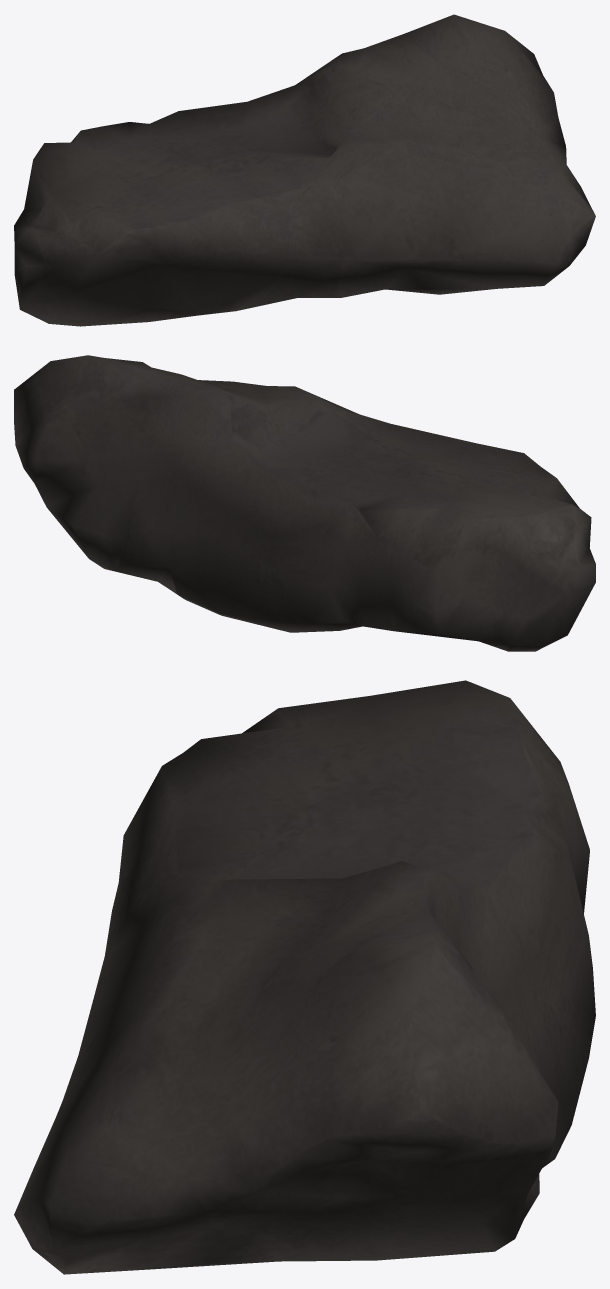
The model's file is falling_rock_a.glb.
3 renders of one model, top to bottom at view 1: azimuth 30°, elevation 25°; view 2: azimuth 150°, elevation 25°; view 3: azimuth 270°, elevation 25°, orthographic. The views are drawn at different scales.
Parts seen in each view (by area): view 1: falling_rock_a; view 2: falling_rock_a; view 3: falling_rock_a.
Part boxes in pixels (<box>): falling_rock_a: <box>14,14,595,326</box>; falling_rock_a: <box>14,355,595,651</box>; falling_rock_a: <box>14,680,595,1274</box>.
Bounding box in the file's own units: 1.28 × 0.4518 × 0.6678.
Materials: 1 (1 with a texture image).
